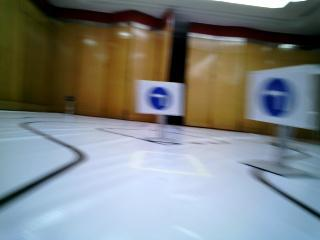left: (245, 71, 316, 124), (140, 79, 182, 115)
